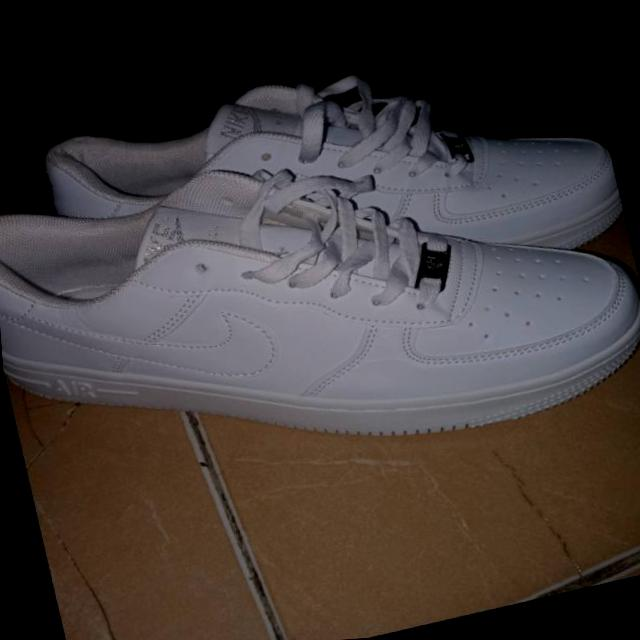nike_fake_airforce: (0, 58, 640, 532), (24, 10, 636, 368)
